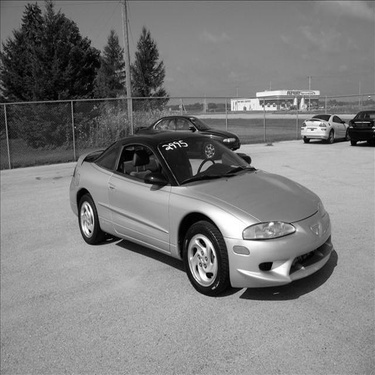car: (61, 124, 342, 304), (112, 112, 240, 158), (299, 109, 350, 143), (340, 97, 372, 147)
